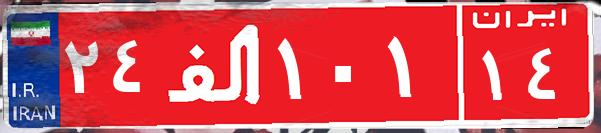0: (330, 28, 385, 110)
1: (385, 28, 445, 110), (273, 28, 330, 110), (475, 38, 525, 113)
2: (57, 26, 110, 107)
4: (110, 28, 158, 105), (525, 38, 570, 115)
الف: (158, 15, 273, 115)
